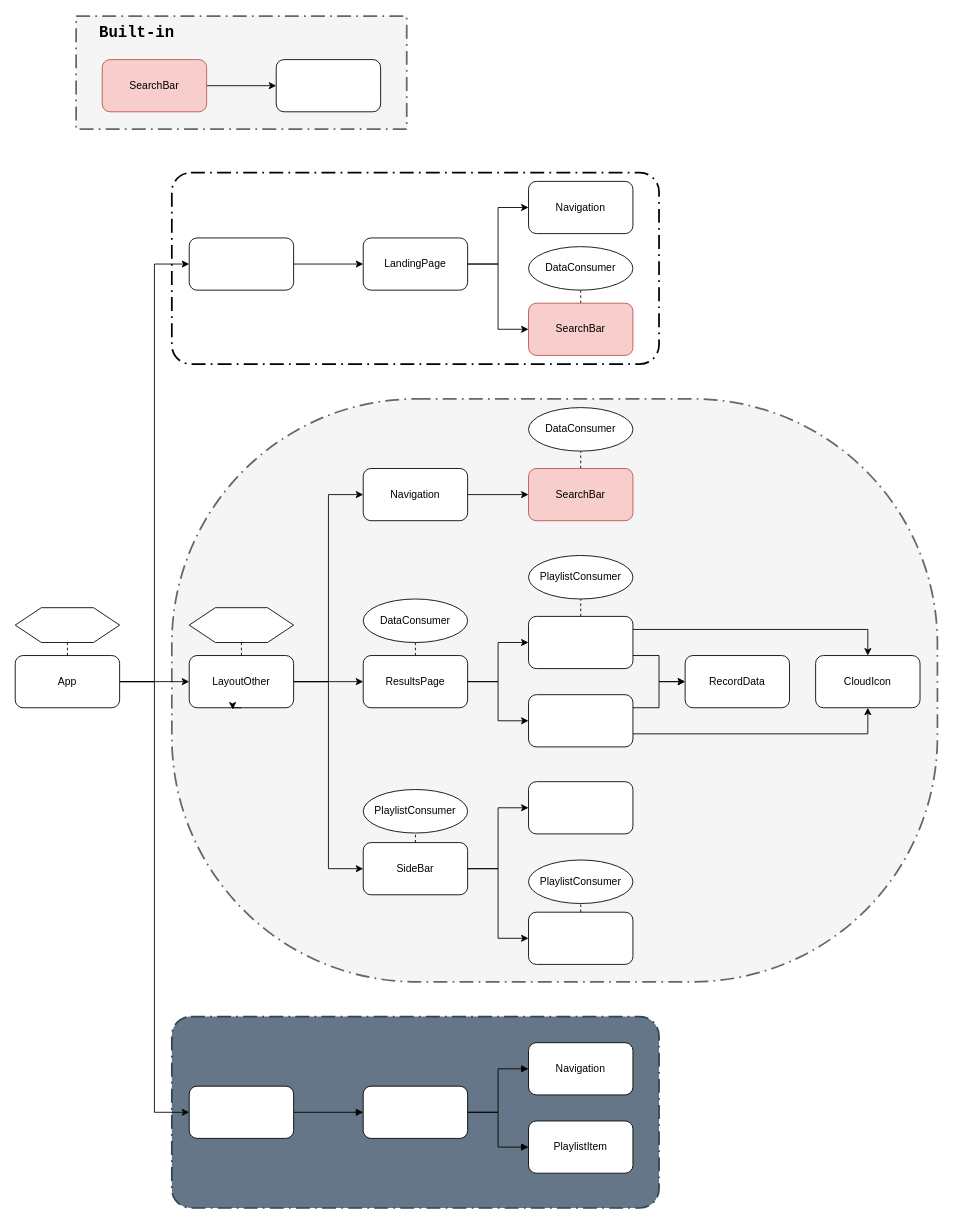
Some shapes in this 954 by 1223 pixel diagram are drawn without their labels. The box of each missing label's shape, as (x1, y1, x2, y2) in pixels:
AutosizeInputUnderline: (528, 781, 633, 834)
DataProvider: (14, 607, 120, 642)
IconDropdown: (275, 59, 381, 112)
LayoutLanding: (188, 237, 294, 290)
LayoutPlaylist: (188, 1085, 294, 1138)
PlaylistPage: (362, 1085, 468, 1138)
PlaylistProvider: (188, 607, 294, 642)
RectangleRecord: (528, 616, 633, 669)
SideBarBody: (528, 911, 633, 964)
SquareRecord: (528, 694, 633, 747)
